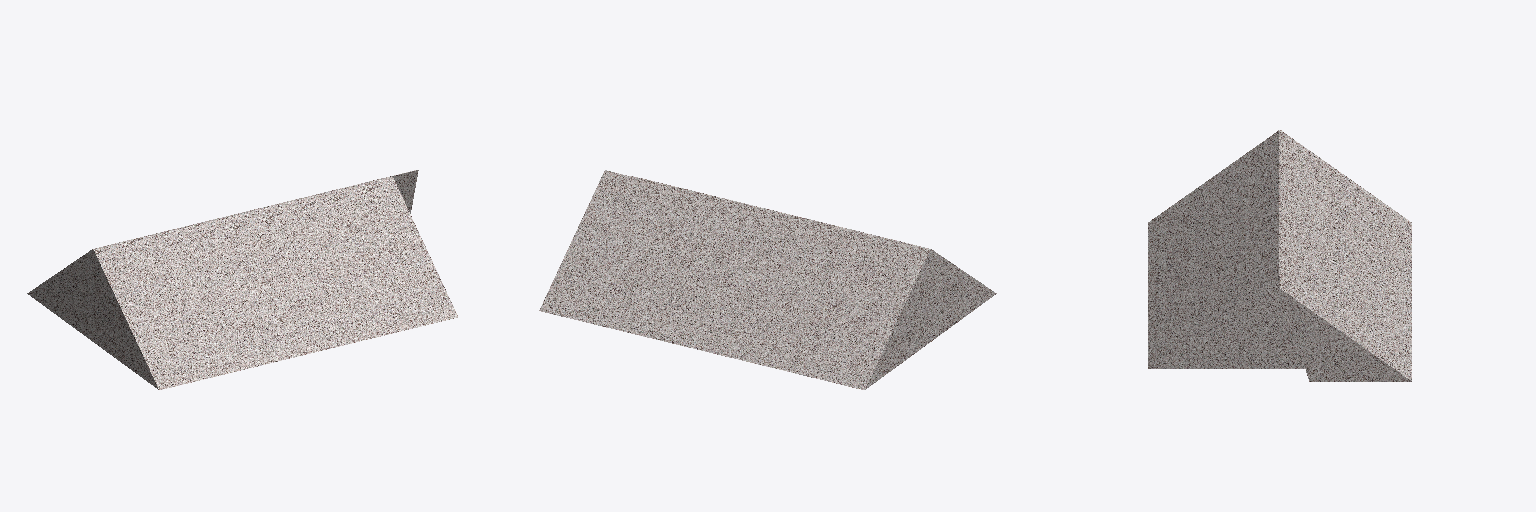
The picture shows the model from 3 angles: view 1: azimuth 30°, elevation 25°; view 2: azimuth 150°, elevation 25°; view 3: azimuth 270°, elevation 25°; orthographic projection.
Visible parts, largest first — view 1: Roof; view 2: Roof; view 3: Roof.
Part boxes in pixels (left/top/right/bottom): Roof: left=27, top=170, right=457, bottom=389; Roof: left=539, top=170, right=996, bottom=389; Roof: left=1148, top=130, right=1411, bottom=381.
Size of the model in its own units: 12.19 by 3.31 by 8.58.
1 materials, 1 textured.